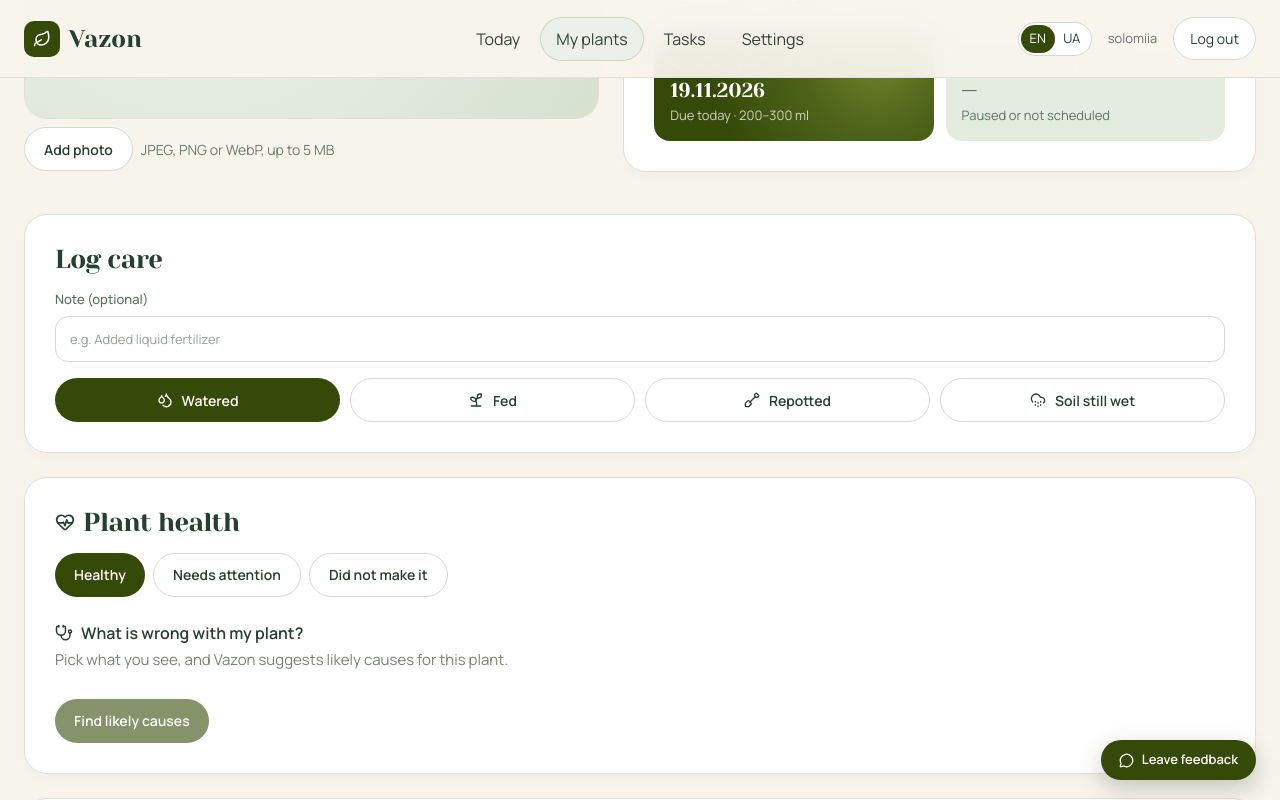
Plant detail & care log flow › undoes a care entry logged by mistake
The width and height of the screenshot is (1280, 800).
(page scrolled)
Click the button "Repotted". click: (788, 400)
box: [645,378,930,422]
(page scrolled)
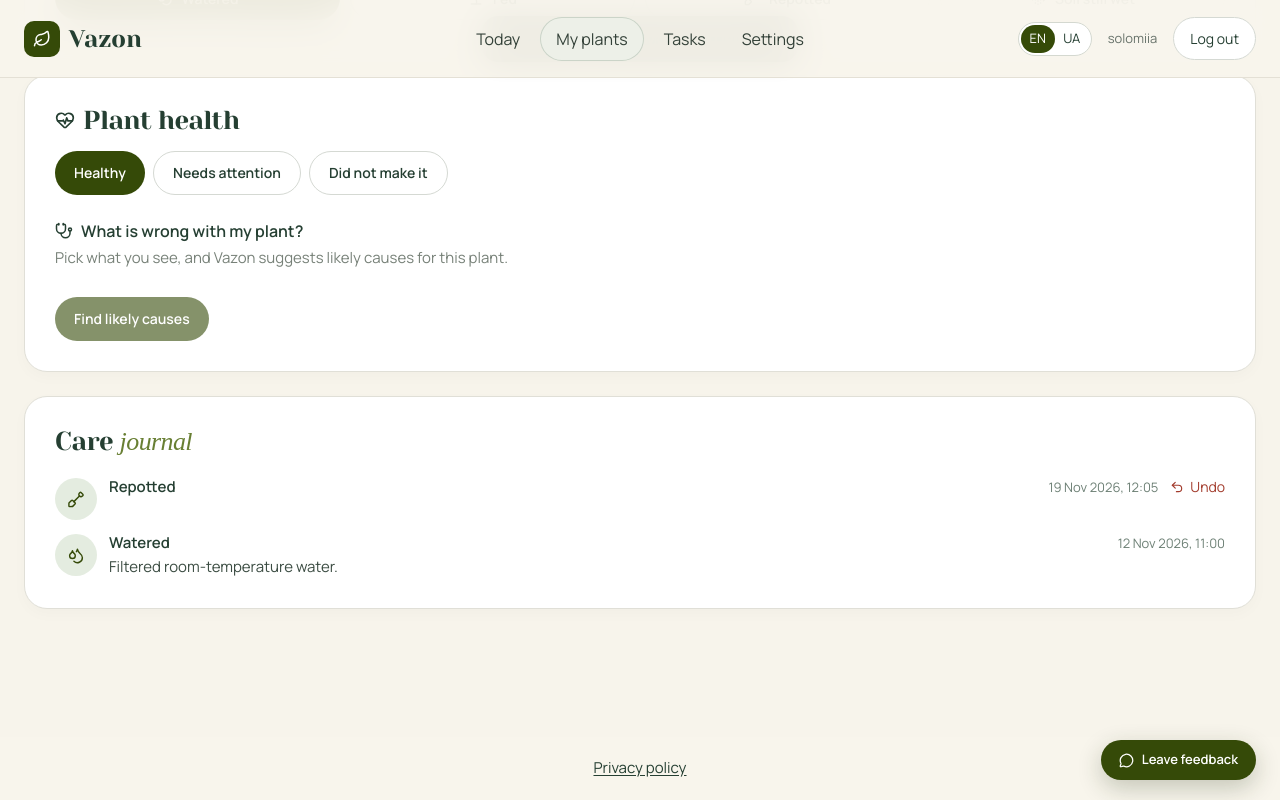
Click the button "Undo". click: (1198, 487)
box: [1170,476,1225,497]
(page scrolled)
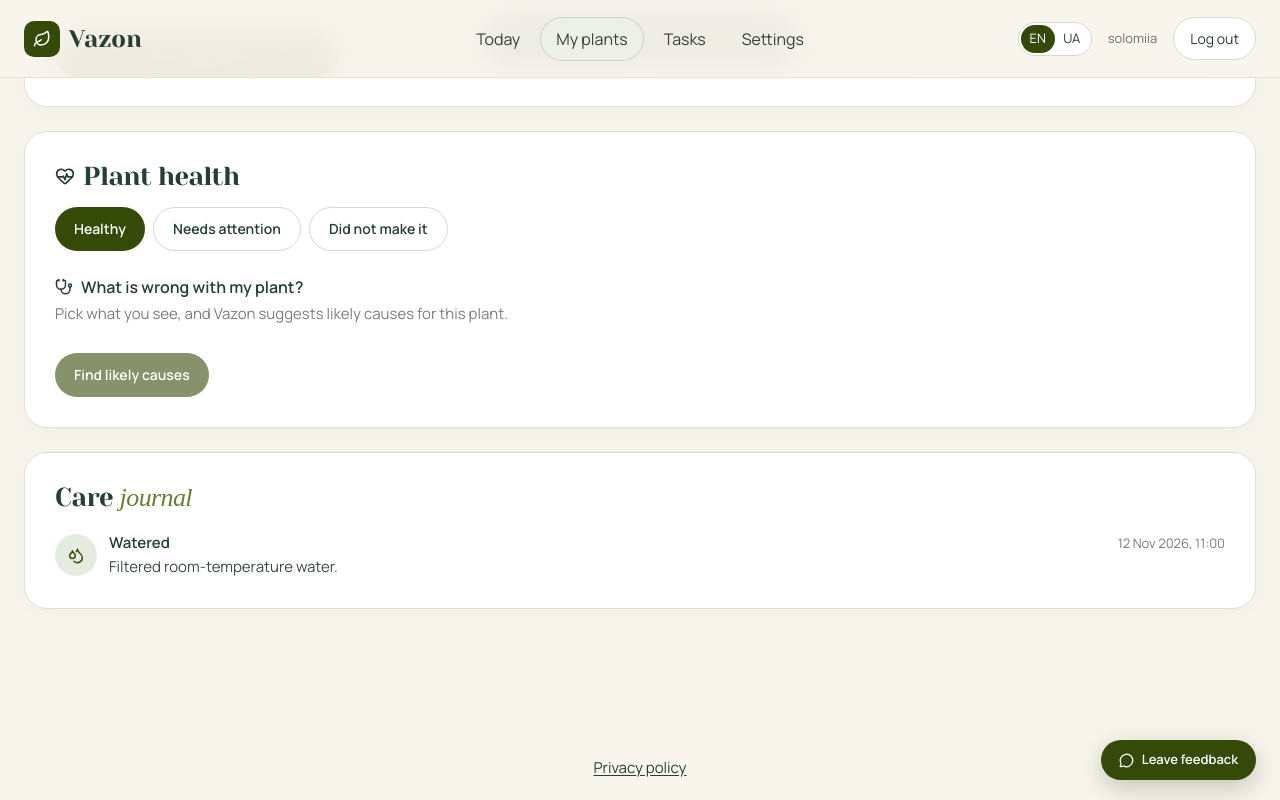
Expected: the text "Entry removed. The schedule is updated." is shown, [482,16,798,62]
Now the button "Undo" is gone
